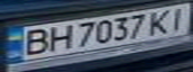0: (93, 17, 115, 45)
3: (112, 15, 133, 43)
7: (127, 11, 151, 39), (72, 20, 96, 47)
B: (15, 26, 54, 56)
H: (42, 22, 75, 52)
I: (163, 4, 193, 32)
K: (145, 7, 175, 36)
